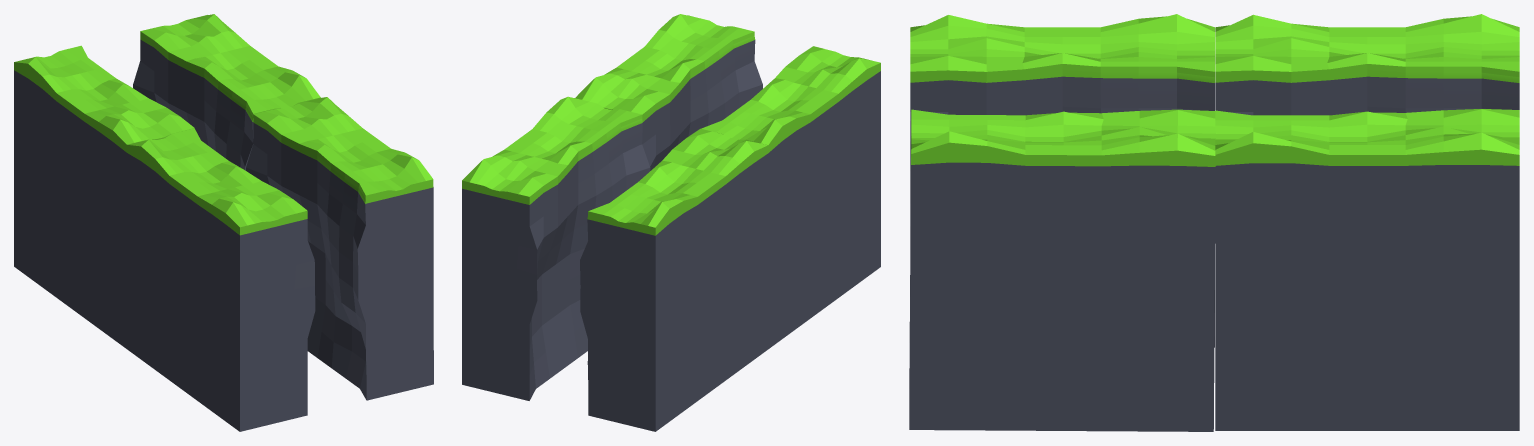
The model's file is BlockSet5.dae.
3 renders of one model, left to right at view 1: azimuth 30°, elevation 25°; view 2: azimuth 150°, elevation 25°; view 3: azimuth 270°, elevation 25°, orthographic. The views are drawn at different scales.
Parts seen in each view (by area): view 1: BlockSet5Fin; view 2: BlockSet5Fin; view 3: BlockSet5Fin.
Boxes of the visible parts, <box> form: BlockSet5Fin: <box>14,14,433,431</box>; BlockSet5Fin: <box>462,14,880,431</box>; BlockSet5Fin: <box>909,14,1519,431</box>.
Bounding box in the file's own units: 154 × 167 × 312.
